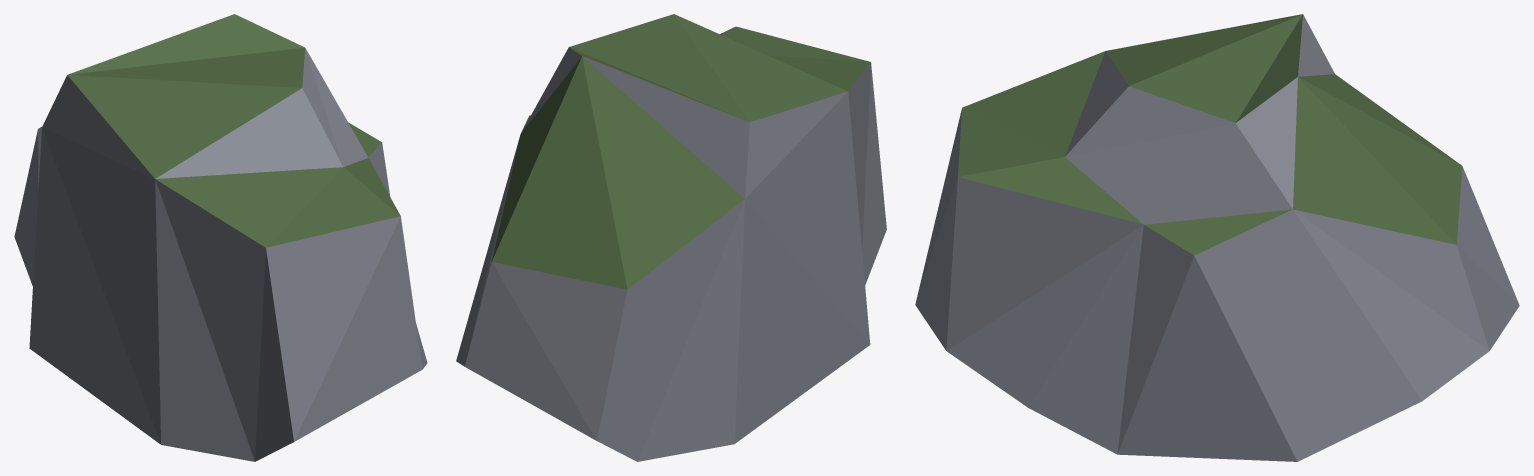
The model's file is Rock_Moss_4.lod3.glb.
3 renders of one model, left to right at view 1: azimuth 30°, elevation 25°; view 2: azimuth 150°, elevation 25°; view 3: azimuth 270°, elevation 25°, orthographic. The views are drawn at different scales.
Visible parts, largest first — view 1: Rock_Moss_4; view 2: Rock_Moss_4; view 3: Rock_Moss_4.
Boxes of the visible parts, box(x1,y1,x2,y2) form: Rock_Moss_4: box(14, 14, 427, 461); Rock_Moss_4: box(456, 14, 886, 461); Rock_Moss_4: box(915, 14, 1519, 461).
Bounding box in the file's own units: 0.7207 × 0.759 × 1.23.
